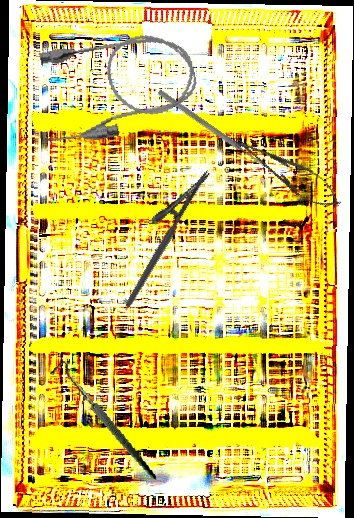Cannula: (28, 24, 204, 150)
Hook Surgical: (47, 347, 158, 497)
Needle Holder: (105, 158, 213, 309), (226, 126, 348, 217)
Pusher: (156, 88, 268, 170)
